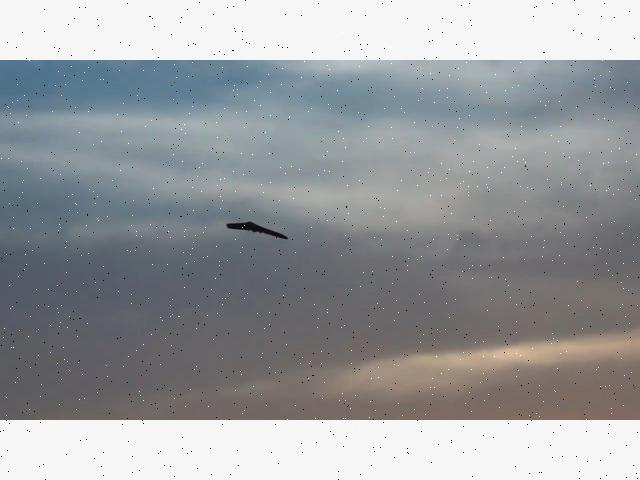Anti-Drone: (226, 222, 288, 240)
